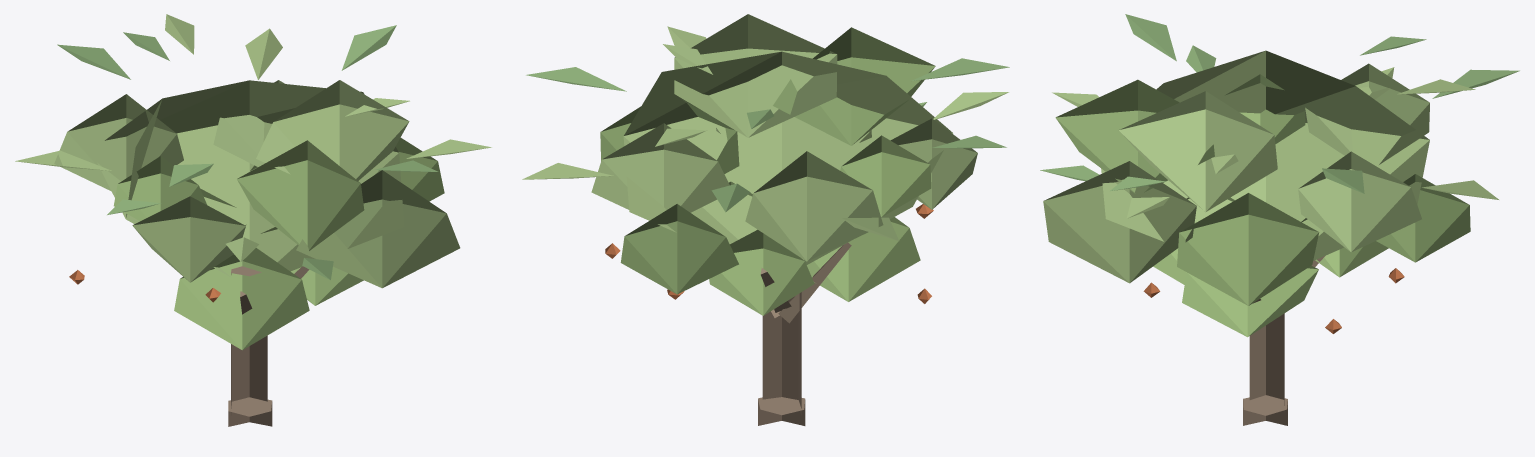
Rendered from shu.mangguo__spring.glb.
3 renders of one model, left to right at view 1: azimuth 30°, elevation 25°; view 2: azimuth 150°, elevation 25°; view 3: azimuth 270°, elevation 25°, orthographic. The views are drawn at different scales.
Parts seen in each view (by area): view 1: shu.mangguo__spring; view 2: shu.mangguo__spring; view 3: shu.mangguo__spring.
Boxes of the visible parts, x1,y1,x2,y2 form: shu.mangguo__spring: (15,14,491,426); shu.mangguo__spring: (522,14,1009,425); shu.mangguo__spring: (1040,14,1519,425).
Size of the model in its own units: 12.41 by 11.4 by 13.39.
